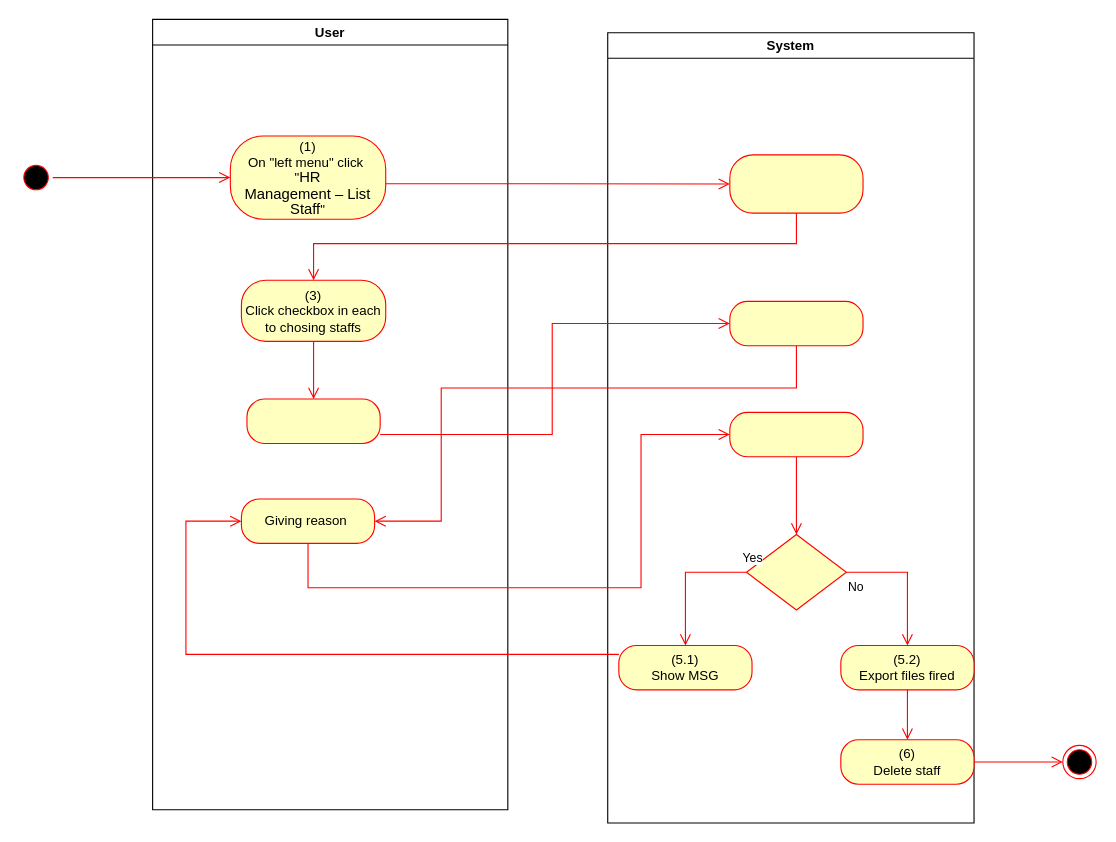
This 1116x842 diagram has some shape labels left out. The centre of each missing label's shape, as x and y in pixels:
(2) Load "List staff" screen: point (796, 183)
(4) Click "Sa thải": point (313, 420)
(5) Load "Fired Form": point (796, 323)
(5) Validate: point (796, 434)
